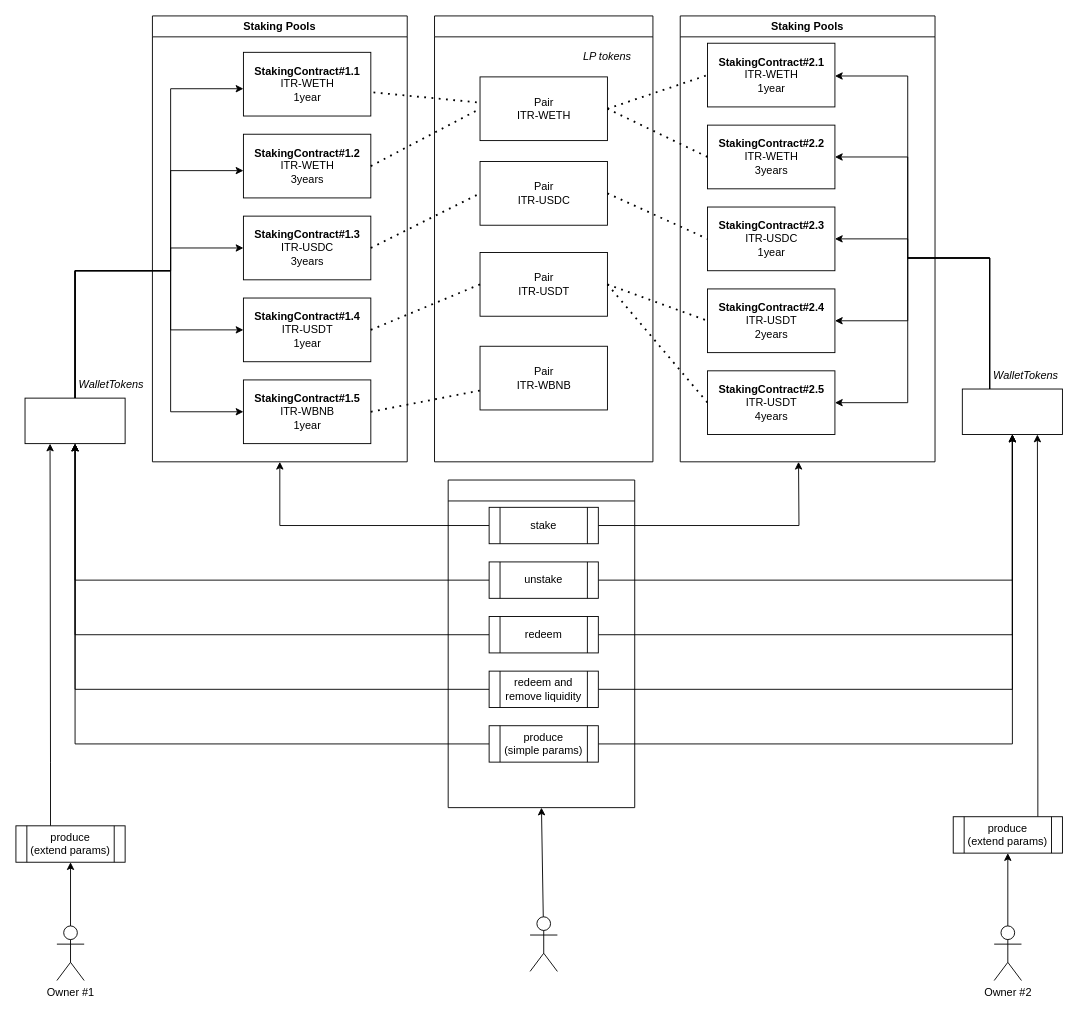
Image size: 1078x1016. Some labels were removed from this diagram. The box of each missing label's shape, as (x1, y1, x2, y2) in pixels:
StakingFactory#1: (24, 397, 125, 444)
StakingFactory#2: (961, 388, 1062, 435)
Uniswap: (434, 15, 653, 462)
User: (529, 916, 557, 971)
